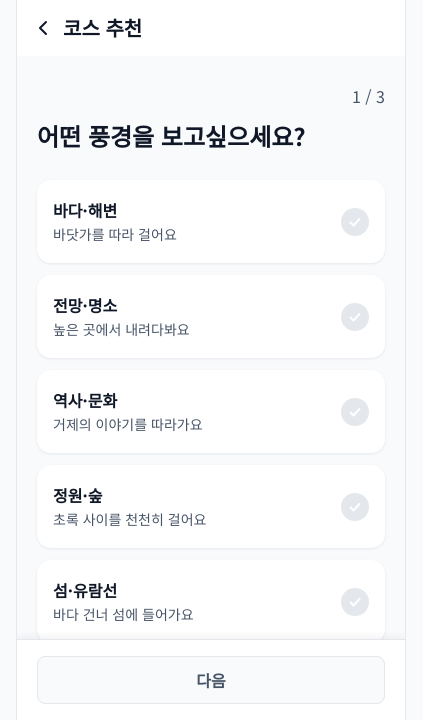
성향으로 코스 찾기(2026-09-20) › 대표 코스 밖이어도 고르고, 제목 · 소개가 없는 코스는 후보에서 뺀다
Expected: the heading "어떤 풍경을 보고싶으세요?" is shown, [37,118,306,153]
Click the button "바다·해변 바닷가를 따라 걸어요" at x=85, y=210, box [37,180,385,263]
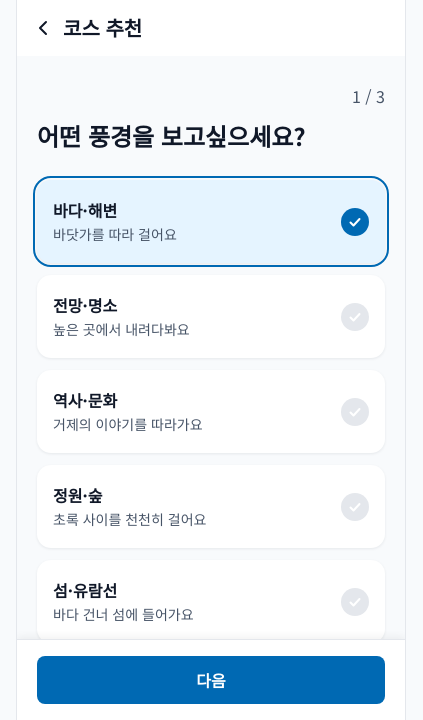
Click the button "다음" at x=211, y=680, box [37,656,385,704]
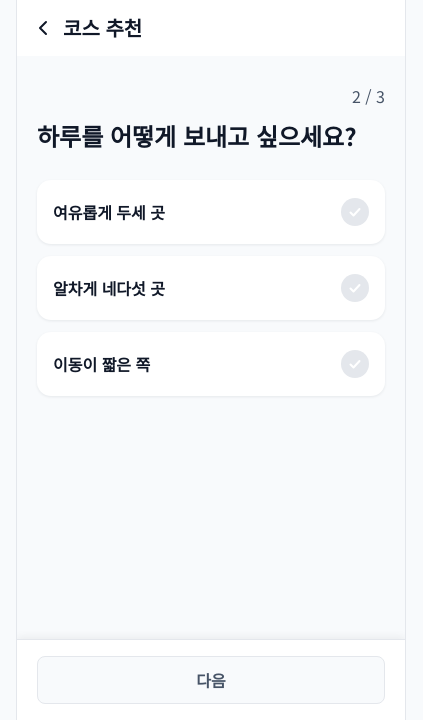
Click the button "이동이 짧은 쪽" at x=102, y=364, box [37,332,385,396]
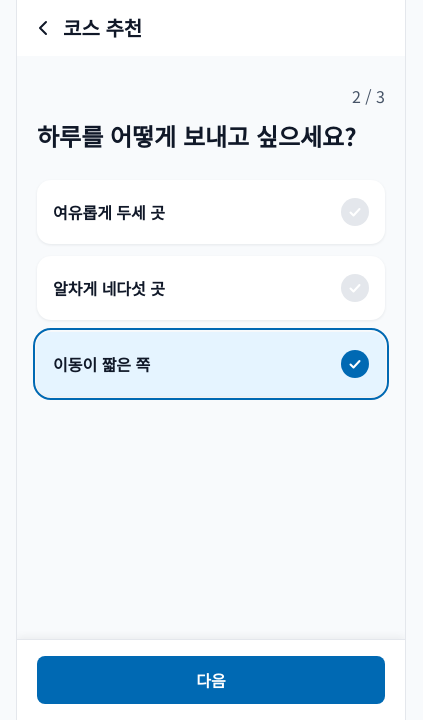
Click the button "다음" at x=211, y=680, box [37,656,385,704]
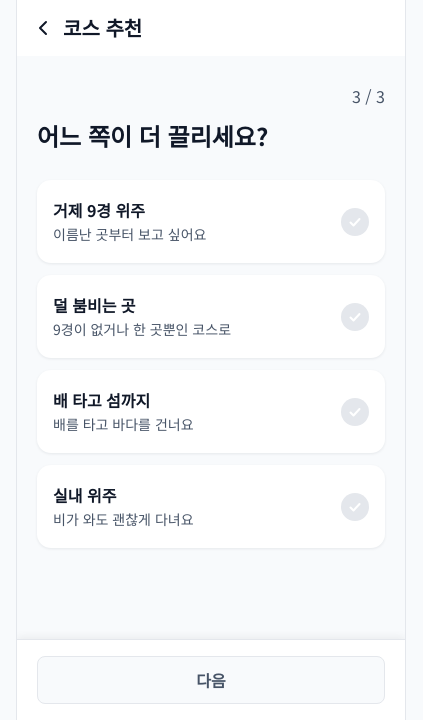
Click the button "덜 붐비는 곳 9경이 없거나 한 곳뿐인 코스로" at x=211, y=316, box [37,275,385,358]
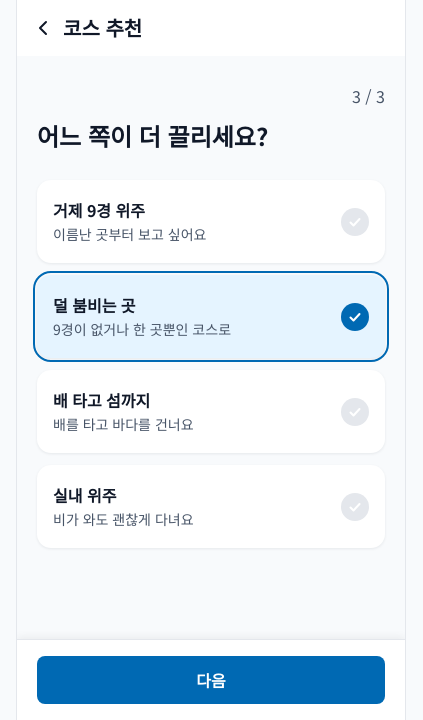
Click the button "다음" at x=211, y=680, box [37,656,385,704]
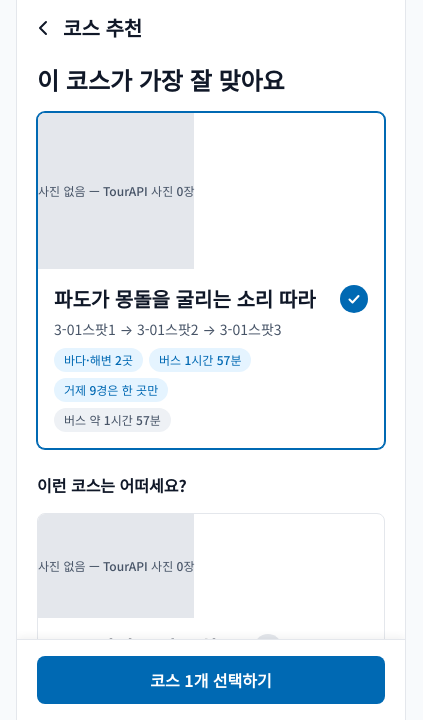
Result: the text "파도가 몽돌을 굴리는 소리 따라" is shown at [54,285,328,313]
